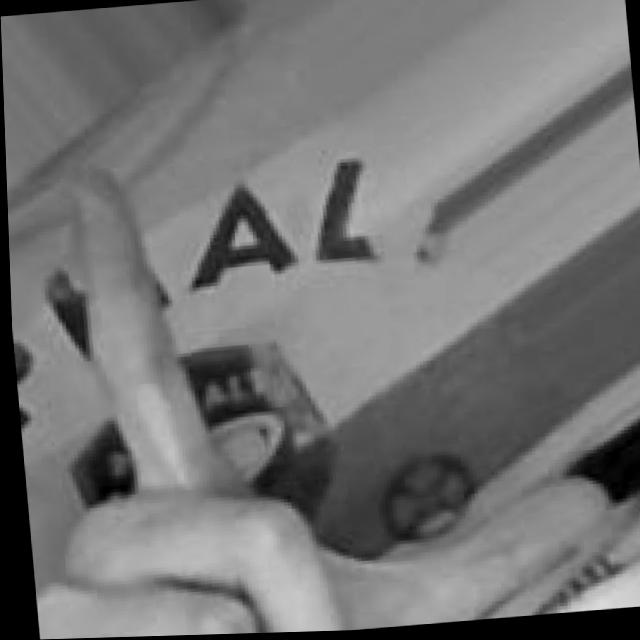L: (5, 121, 619, 640)
